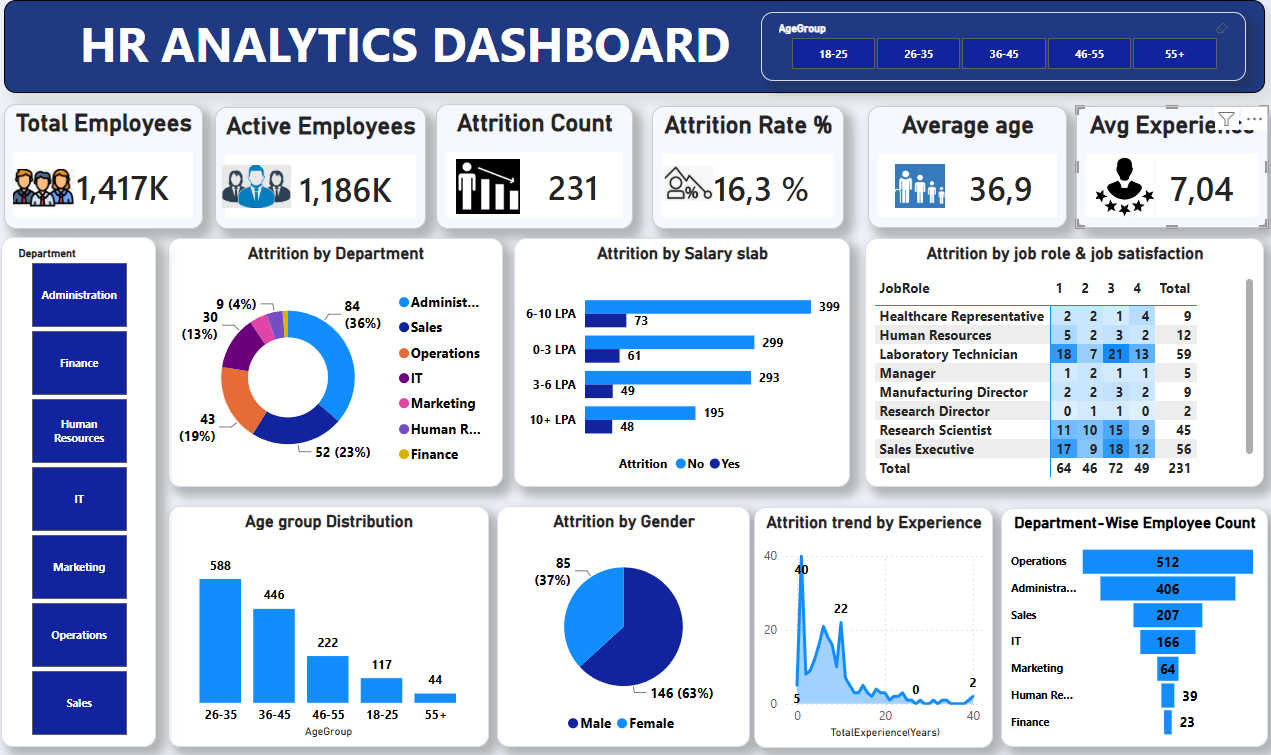

What the dashboard file says about the page in this screenshot:
{"tool":"powerbi","page":{"name":"Page 1","canvas":[1280,768],"ordinal":0},"visuals":[{"type":"textbox","box":[9.8,0,1260.7,92.9],"z":0},{"type":"cardVisual","title":"Total Employees","fields":{"Data":["CountNonNull(HR_Analytics-4.EmpID)"]},"box":[9.6,104.3,199,124.9],"z":1000},{"type":"cardVisual","title":"Active Employees","fields":{"Data":["CountNonNull(HR_Analytics-4.EmployeeCount)"]},"box":[220.9,107,211.3,122.1],"z":2000},{"type":"cardVisual","title":"Attrition Count","fields":{"Data":["Sum(HR_Analytics-4.AttritionCount)"]},"box":[441.9,104.3,197.6,124.9],"z":3000},{"type":"cardVisual","title":"Attrition Rate %","fields":{"Data":["HR_Analytics-4.AttritionRate"]},"box":[657.6,106.4,192,122.6],"z":4000},{"type":"cardVisual","title":"Average age","fields":{"Data":["Avg(HR_Analytics-4.Age)"]},"box":[874.2,106.4,198.6,121.6],"z":5000},{"type":"cardVisual","title":"Avg Experience","fields":{"Data":["Avg(HR_Analytics-4.YearsatCompany)"]},"box":[1082.3,106.4,192,121.6],"z":6000},{"type":"image","box":[892.3,164.4,68.4,43.7],"z":7000},{"type":"image","box":[19,158.7,60.8,58],"z":8000},{"type":"image","box":[458,158.7,73.2,55.1],"z":9000},{"type":"image","box":[669,143,50,80],"z":10000},{"type":"image","box":[228.1,134.9,69.4,102.6],"z":11000},{"type":"image","box":[1097.6,155.8,68.4,60.8],"z":12000},{"type":"donutChart","title":"Attrition by Department","fields":{"Y":["Sum(HR_Analytics-4.AttritionCount)"],"Category":["HR_Analytics-4.Department"]},"box":[173.9,237.6,335.4,249],"z":13000},{"type":"clusteredBarChart","title":"Attrition by Salary slab","fields":{"Category":["HR_Analytics-4.SalarySlab"],"Y":["CountNonNull(HR_Analytics-4.EmpID)"],"Series":["HR_Analytics-4.Attrition"]},"box":[519.8,237.6,336.4,249],"z":14000},{"type":"pivotTable","title":"Attrition by job role & job satisfaction","fields":{"Rows":["HR_Analytics-4.JobRole"],"Columns":["HR_Analytics-4.JobSatisfaction"],"Values":["Sum(HR_Analytics-4.AttritionCount)"]},"box":[871.4,237.6,399.1,249],"z":15000},{"type":"clusteredColumnChart","title":"Age group Distribution","fields":{"Category":["HR_Analytics-4.AgeGroup"],"Y":["Sum(HR_Analytics-4.EmployeeCount)"]},"box":[173.9,506.5,321.2,240.4],"z":16000},{"type":"pieChart","title":"Attrition by Gender","fields":{"Category":["HR_Analytics-4.Gender"],"Y":["Sum(HR_Analytics-4.AttritionCount)"]},"box":[502.7,506.5,253.7,240.4],"z":17000},{"type":"areaChart","title":"Attrition trend by Experience","fields":{"Y":["Sum(HR_Analytics-4.AttritionCount)"],"Category":["HR_Analytics-4.TotalExperience(Years)"]},"box":[760.3,507.4,238.5,240.4],"z":18000},{"type":"funnel","title":"Department-Wise Employee Count","fields":{"Y":["CountNonNull(HR_Analytics-4.EmpID)"],"Category":["HR_Analytics-4.Department"]},"box":[1007.3,508.4,267,238.5],"z":19000},{"type":"slicer","fields":{"Values":["HR_Analytics-4.Department"]},"box":[6.7,236.6,155.8,510.3],"z":20000},{"type":"slicer","fields":{"Values":["HR_Analytics-4.AgeGroup"]},"box":[766.9,12.4,485.6,68.4],"z":21000}]}

Visuals, with their boxes in screenshot pixels (x1, y1, x2, y2), scaled from the page's 1280x768 canvas onto the 1271x755 screenshot:
textbox: {"left": 10, "top": 0, "right": 1262, "bottom": 91}
"Total Employees" cardVisual: {"left": 10, "top": 103, "right": 207, "bottom": 225}
"Active Employees" cardVisual: {"left": 219, "top": 105, "right": 429, "bottom": 225}
"Attrition Count" cardVisual: {"left": 439, "top": 103, "right": 635, "bottom": 225}
"Attrition Rate %" cardVisual: {"left": 653, "top": 105, "right": 844, "bottom": 225}
"Average age" cardVisual: {"left": 868, "top": 105, "right": 1065, "bottom": 224}
"Avg Experience" cardVisual: {"left": 1075, "top": 105, "right": 1265, "bottom": 224}
image: {"left": 886, "top": 162, "right": 954, "bottom": 205}
image: {"left": 19, "top": 156, "right": 79, "bottom": 213}
image: {"left": 455, "top": 156, "right": 527, "bottom": 210}
image: {"left": 664, "top": 141, "right": 714, "bottom": 219}
image: {"left": 226, "top": 133, "right": 295, "bottom": 233}
image: {"left": 1090, "top": 153, "right": 1158, "bottom": 213}
"Attrition by Department" donutChart: {"left": 173, "top": 234, "right": 506, "bottom": 478}
"Attrition by Salary slab" clusteredBarChart: {"left": 516, "top": 234, "right": 850, "bottom": 478}
"Attrition by job role & job satisfaction" pivotTable: {"left": 865, "top": 234, "right": 1262, "bottom": 478}
"Age group Distribution" clusteredColumnChart: {"left": 173, "top": 498, "right": 492, "bottom": 734}
"Attrition by Gender" pieChart: {"left": 499, "top": 498, "right": 751, "bottom": 734}
"Attrition trend by Experience" areaChart: {"left": 755, "top": 499, "right": 992, "bottom": 735}
"Department-Wise Employee Count" funnel: {"left": 1000, "top": 500, "right": 1265, "bottom": 734}
slicer - HR_Analytics-4.Department: {"left": 7, "top": 233, "right": 161, "bottom": 734}
slicer - HR_Analytics-4.AgeGroup: {"left": 762, "top": 12, "right": 1244, "bottom": 79}
